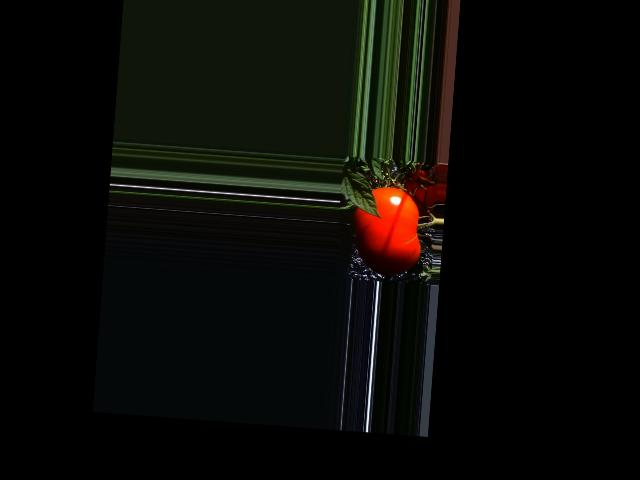tomato: (349, 184, 425, 277)
